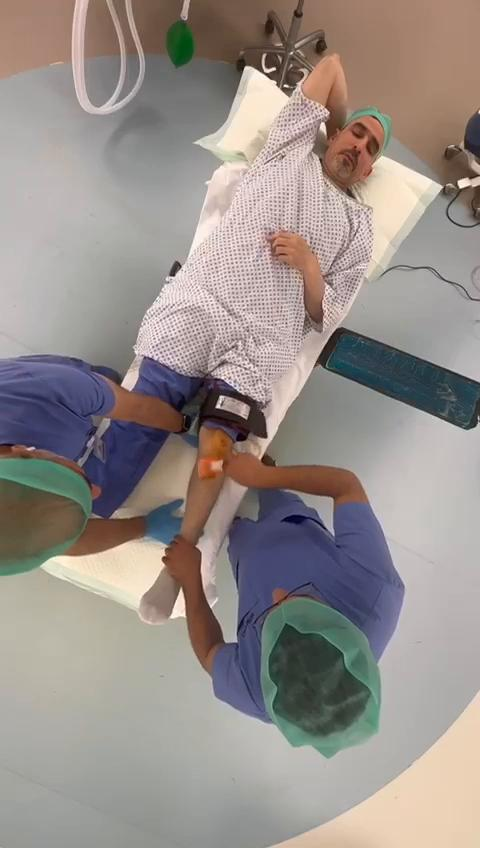bed: (34, 72, 431, 616)
patient: (84, 55, 389, 542)
prepstick: (199, 459, 224, 478)
tourniquet: (200, 392, 267, 437)
